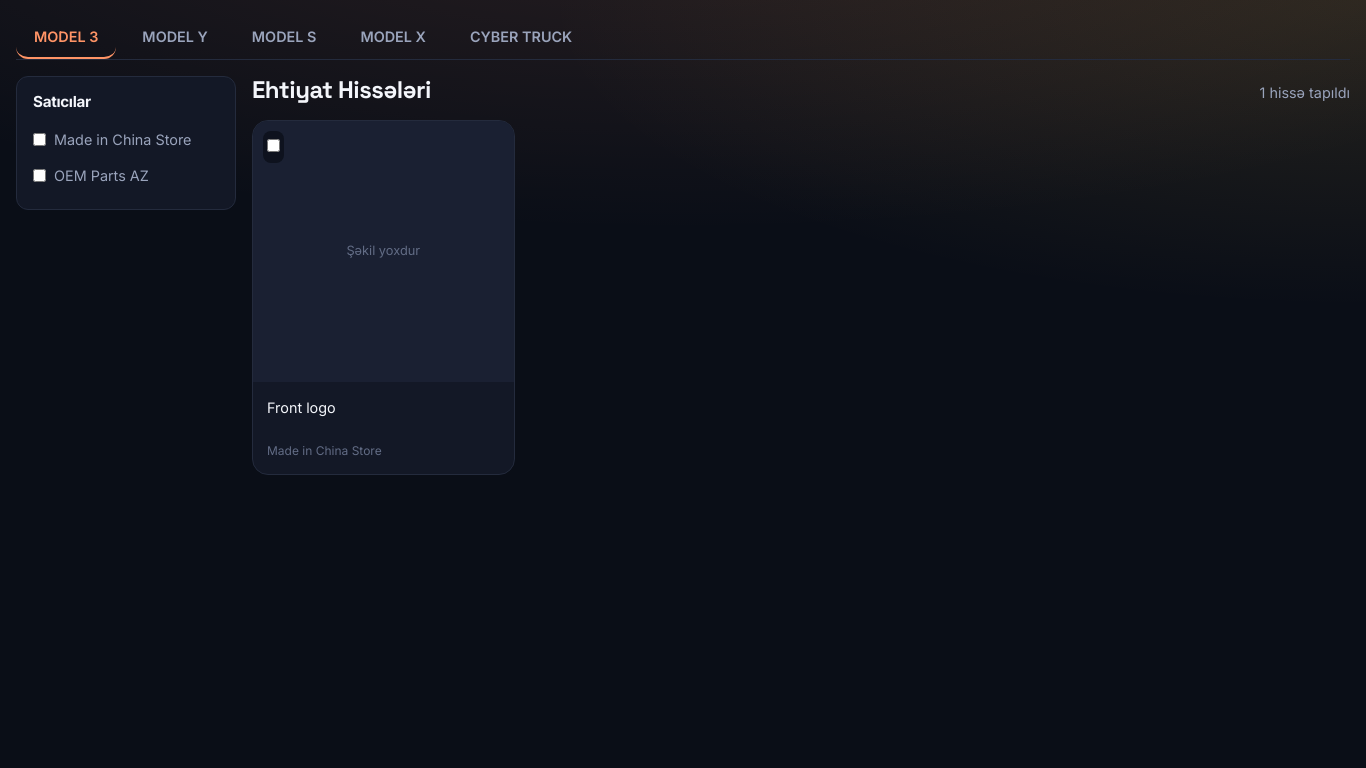
Parts page › shows the selection bar count after selecting a part card checkbox
The width and height of the screenshot is (1366, 768).
Expected: the text "Front logo" is shown, [267,398,336,416]
Step 1. Click the checkbox named "Seç: Front logo" → (274,146), box [267,139,280,152]
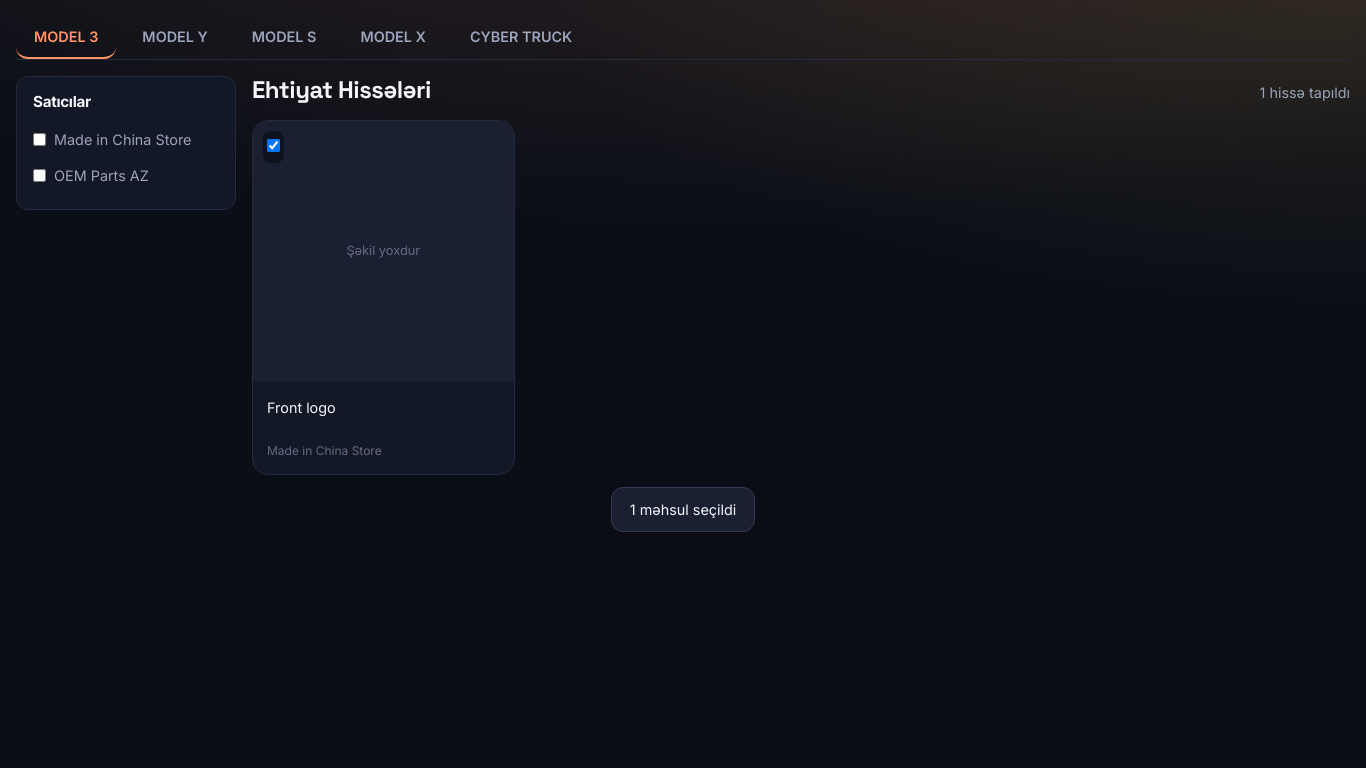
Expected: the text "1 məhsul seçildi" is shown, [611,487,755,532]
